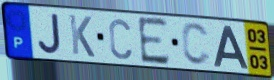A: (213, 24, 251, 71)
C: (180, 21, 214, 67), (107, 17, 134, 61)
E: (136, 15, 172, 67)
J: (37, 12, 63, 56)
K: (67, 13, 97, 60)
